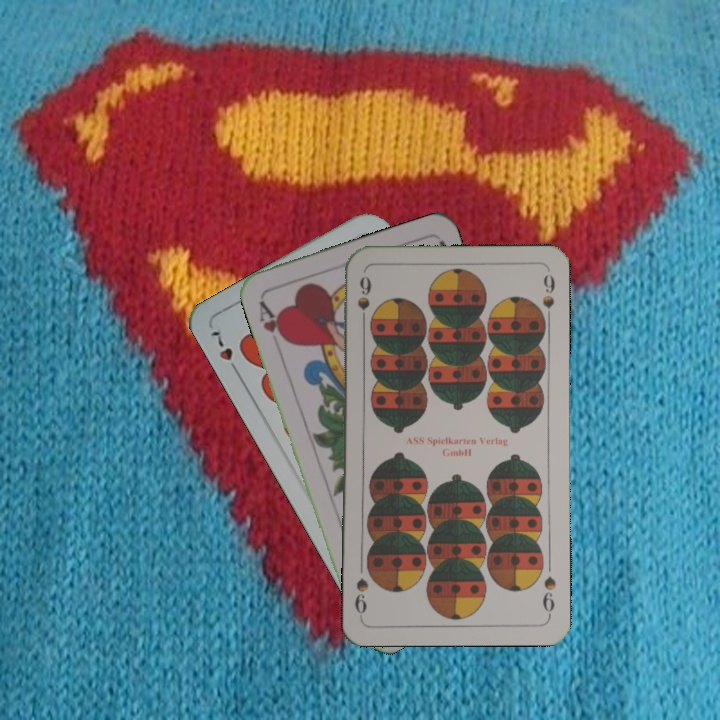H7: (206, 324, 243, 378)
HA: (254, 296, 290, 345)
S9: (354, 272, 374, 330), (539, 572, 558, 619)
